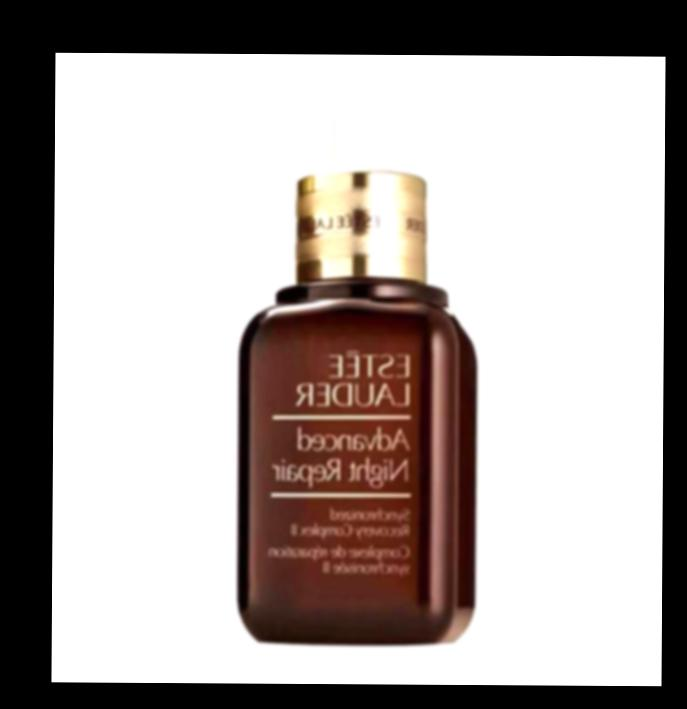cosmetic: (235, 72, 467, 636)
